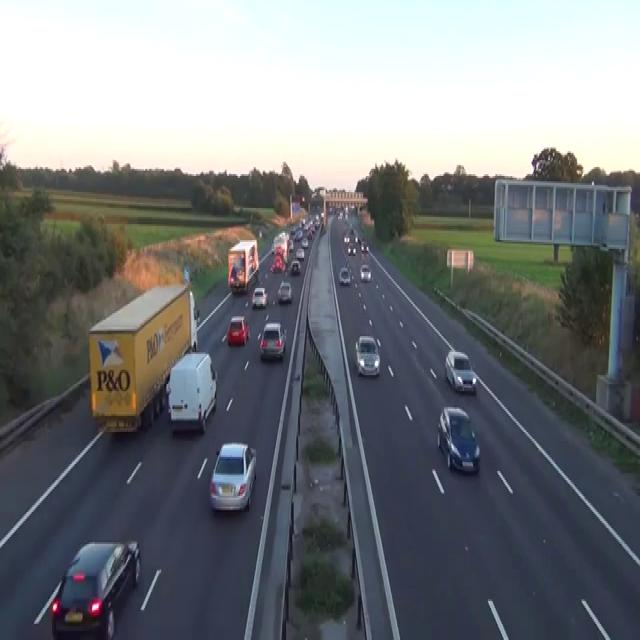Car: (51, 539, 140, 638), (209, 441, 257, 512), (436, 405, 480, 475), (444, 348, 476, 393), (355, 334, 380, 377), (259, 322, 286, 359), (227, 314, 249, 346), (251, 286, 267, 308), (277, 281, 292, 302), (270, 256, 285, 274), (338, 266, 351, 284), (359, 263, 371, 281), (290, 260, 300, 274), (346, 263, 354, 277), (194, 308, 200, 326), (296, 247, 304, 260), (360, 240, 369, 251), (347, 244, 356, 254), (294, 229, 302, 240), (287, 238, 293, 251), (233, 204, 241, 213), (446, 182, 454, 190), (301, 238, 308, 247), (343, 234, 349, 243), (328, 206, 334, 215), (349, 224, 354, 233), (355, 234, 360, 243), (258, 228, 262, 238), (337, 212, 343, 218), (361, 242, 365, 250), (301, 195, 305, 202), (320, 212, 324, 218)
Truck: (87, 281, 199, 434), (166, 350, 217, 434), (227, 238, 259, 294), (272, 231, 289, 265)
